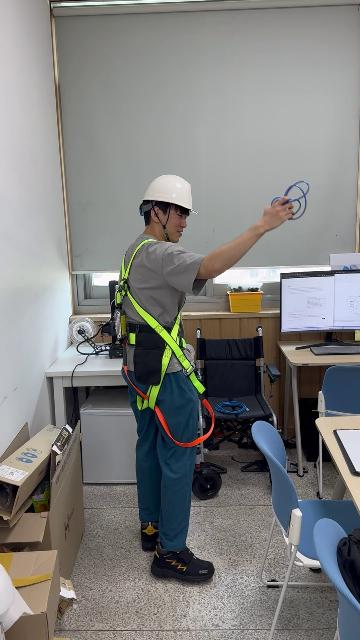helmet_worn: (139, 174, 199, 216)
shoe_worn: (151, 542, 215, 583), (140, 520, 159, 550)
vest_worn: (116, 248, 214, 440)
